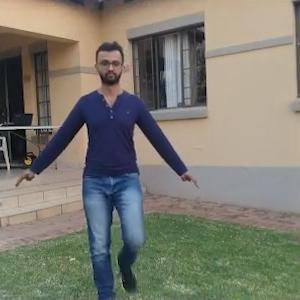land: (16, 31, 209, 294)
